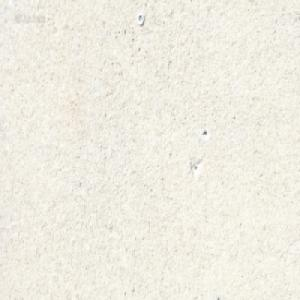Washer: (136, 12, 144, 26)
